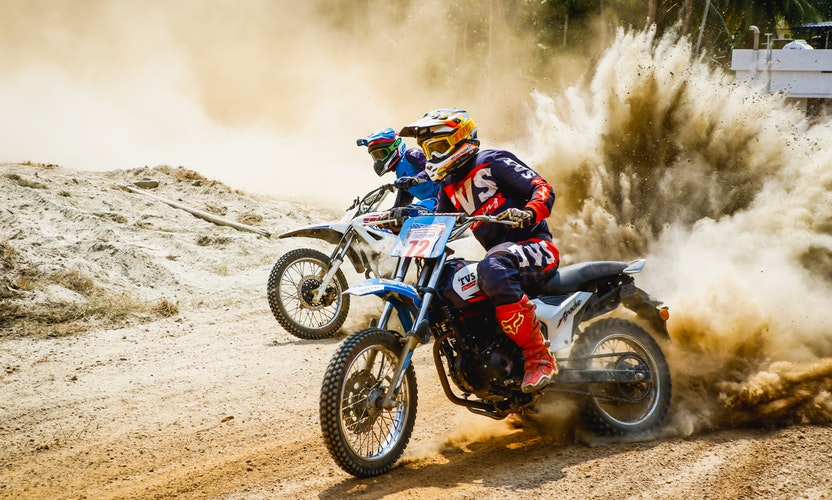helmet: (404, 104, 472, 177), (355, 122, 409, 177)
